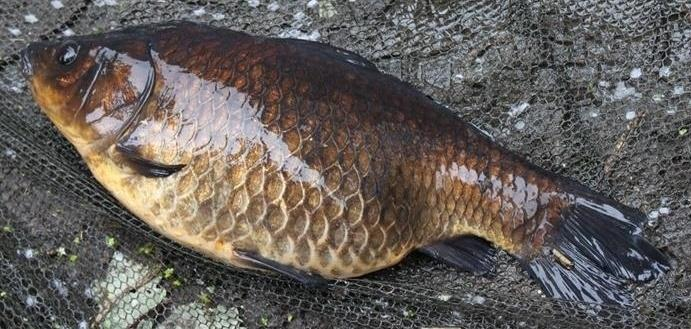Grass Carp: (12, 19, 674, 306)
